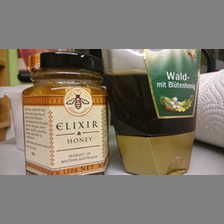honey: (102, 49, 203, 175), (21, 52, 111, 174)
